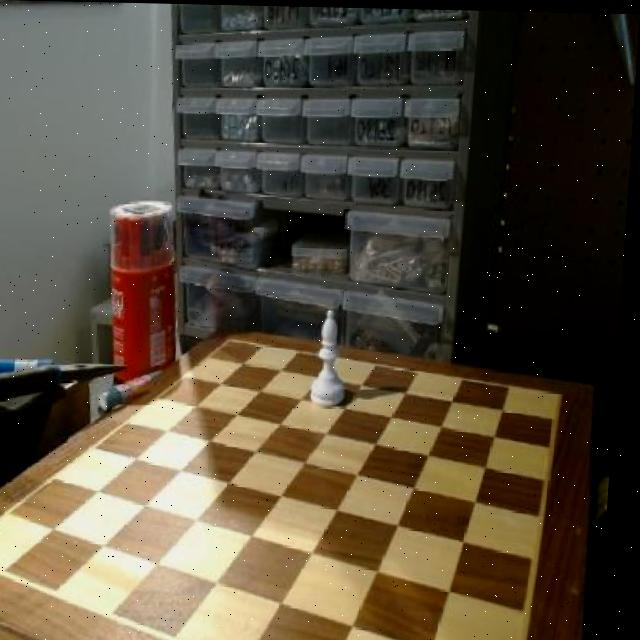black-rook: (309, 306, 360, 408)
